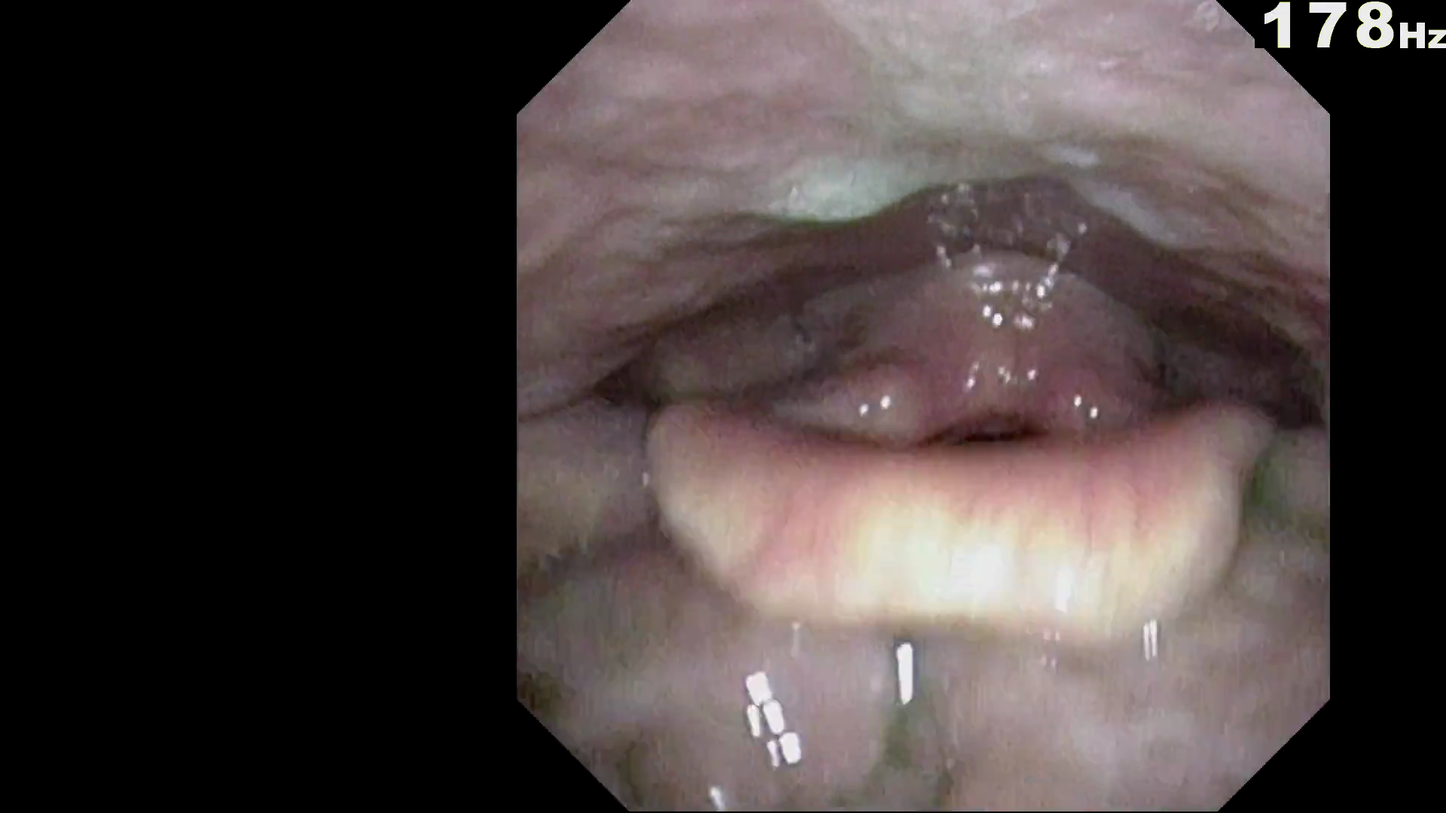epiglottis: (656, 441, 1241, 632)
trachea: (889, 400, 1043, 483)
